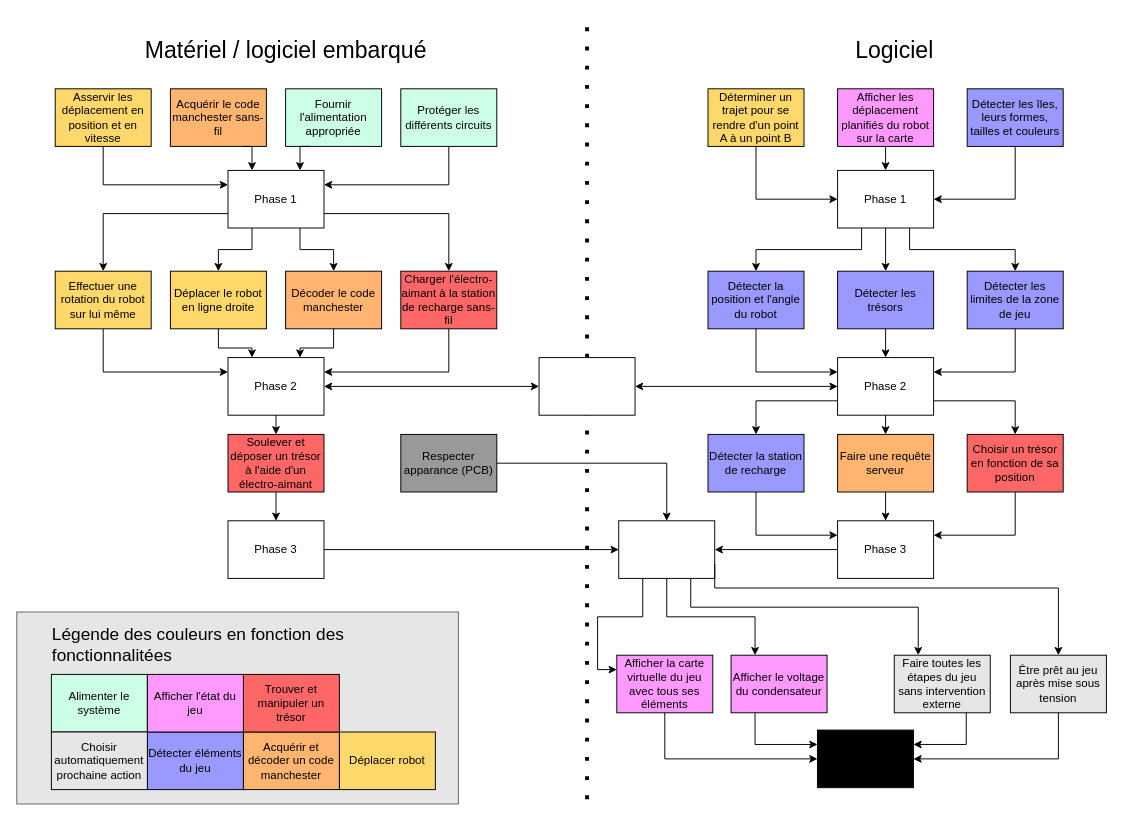
This 1123x821 diagram has some shape labels left out. Here are the shapes that lost their labels. From the top down, the centre of each, then its label:
At (x=586, y=386): "Tests d'intégrations (phase 2)".
At (x=666, y=549): "Phase 4".
At (x=864, y=758): "Robot pirate!".
